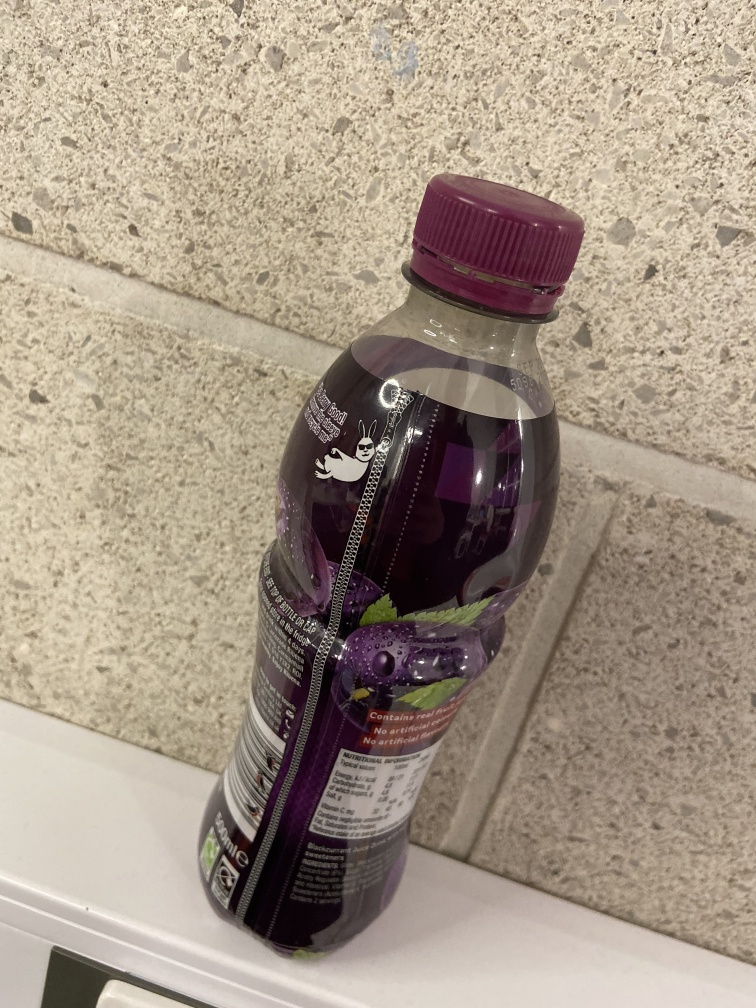bottle_purple: (193, 163, 592, 965)
